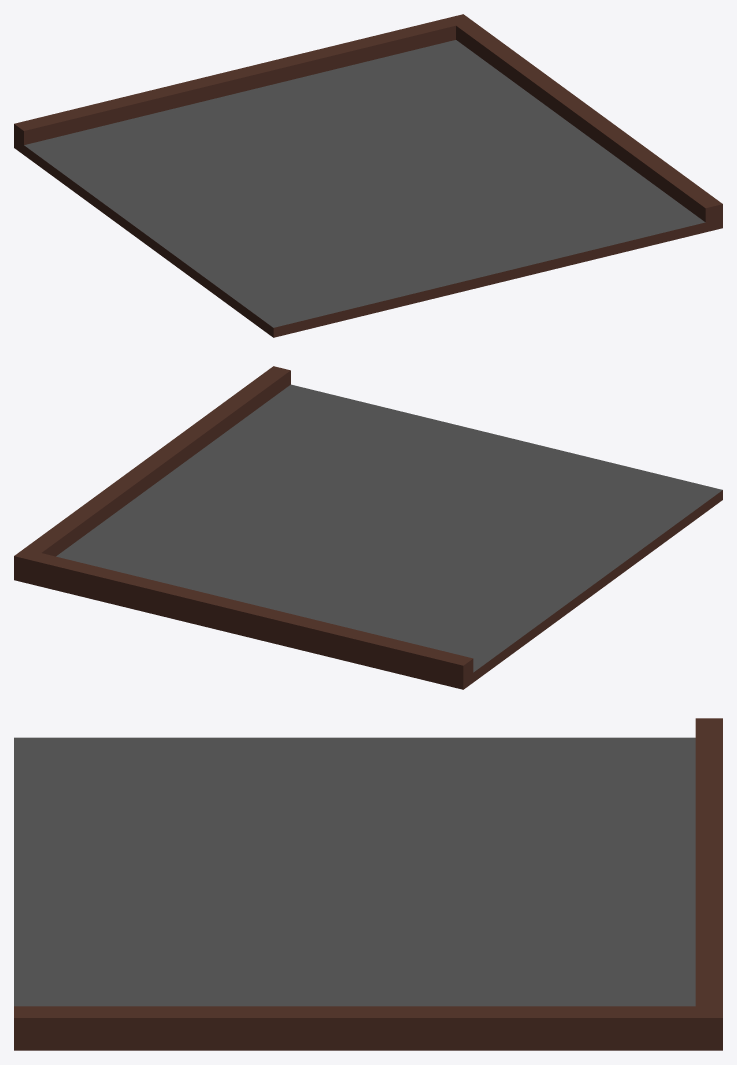
File: roof-b.glb
The picture shows the model from 3 angles, top to bottom: view 1: azimuth 30°, elevation 25°; view 2: azimuth 150°, elevation 25°; view 3: azimuth 270°, elevation 25°; orthographic projection. The views are drawn at different scales.
Parts seen in each view (by area): view 1: Roof B (×2); view 2: Roof B (×2); view 3: Roof B (×2).
Boxes of the visible parts, x1,y1,x2,y2 form: Roof B (×2): [14, 14, 722, 337]; Roof B (×2): [14, 366, 722, 689]; Roof B (×2): [14, 718, 722, 1050].
Bounding box in the file's own units: 3.3 × 0.1692 × 3.3.
